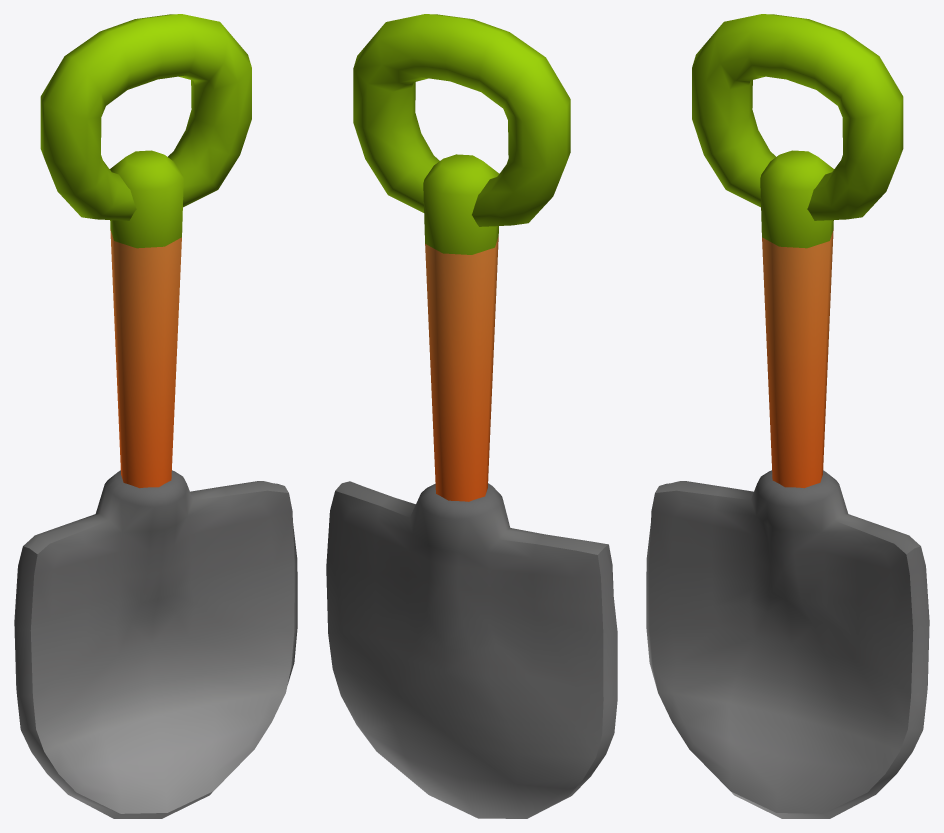
File: Farm_Tool_Shovel_01.glb
The picture shows the model from 3 angles, left to right: view 1: azimuth 30°, elevation 25°; view 2: azimuth 150°, elevation 25°; view 3: azimuth 330°, elevation 25°; orthographic projection. The views are drawn at different scales.
Parts seen in each view (by area): view 1: Farm_Tool_Shovel_01; view 2: Farm_Tool_Shovel_01; view 3: Farm_Tool_Shovel_01.
Part boxes in pixels (box(x1,y1,x2,y2)): Farm_Tool_Shovel_01: box(14, 14, 297, 818); Farm_Tool_Shovel_01: box(326, 14, 617, 818); Farm_Tool_Shovel_01: box(646, 14, 929, 818).
Bounding box in the file's own units: 0.4825 × 1.29 × 0.125.
1 material, 1 textured.
